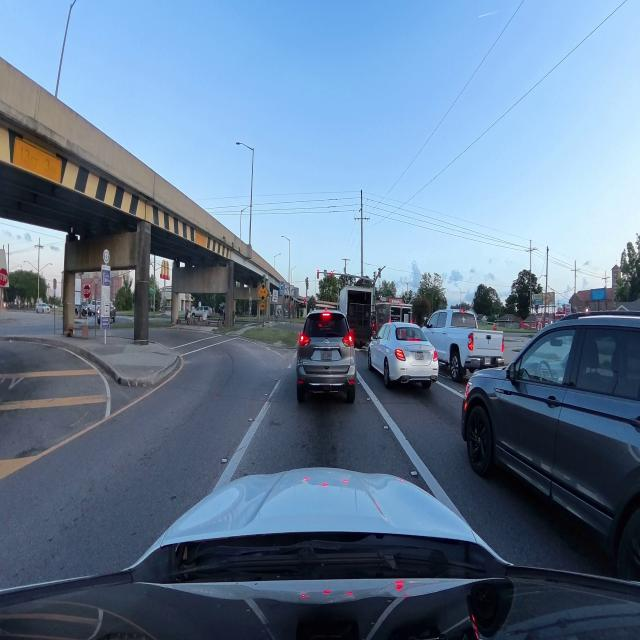car: (462, 312, 639, 580), (423, 309, 503, 381), (297, 310, 356, 402), (368, 323, 438, 388)
